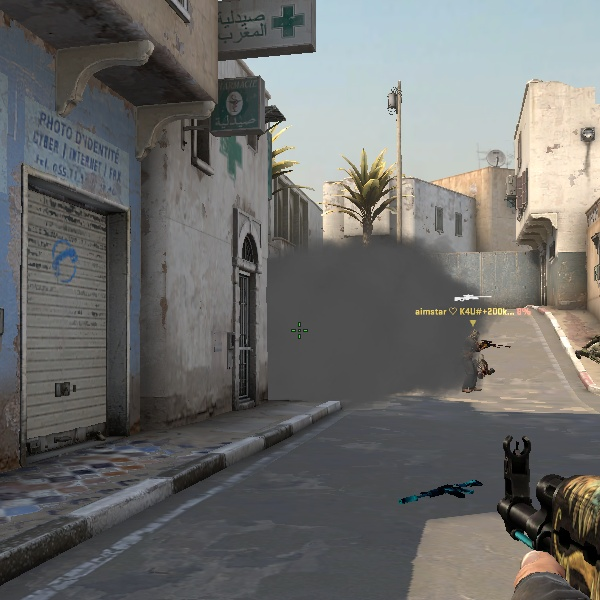t_body: (467, 329, 497, 387)
